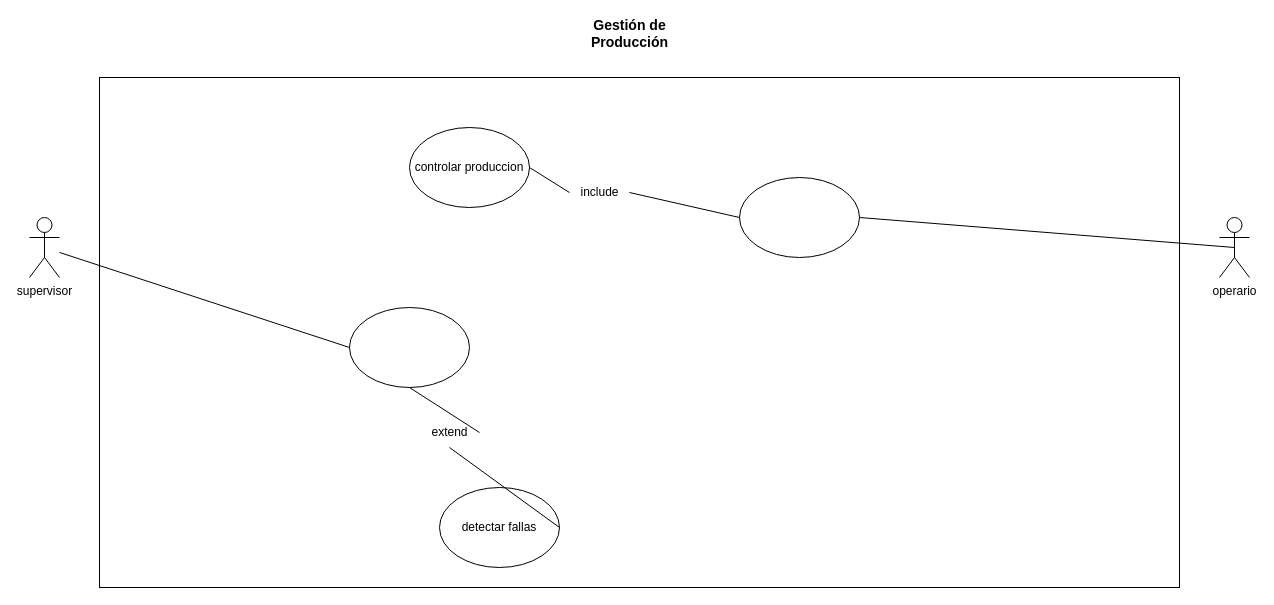
Image size: 1274x605. Some labels were removed from this diagram. The shapes that lost their labels are listed below. From the top down, each one's centre as x and y in pixels, then its label:
point 799,217: registrar proceso
point 409,347: gnerar reporte
